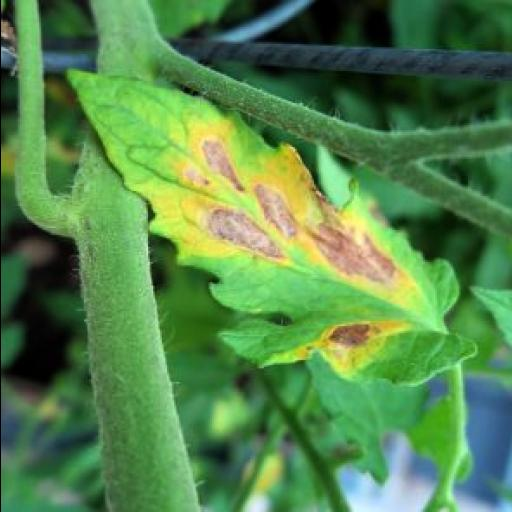disease_tomato: (66, 73, 482, 387)
